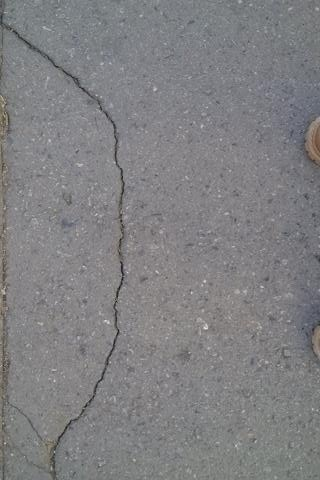A: (4, 16, 128, 480)
